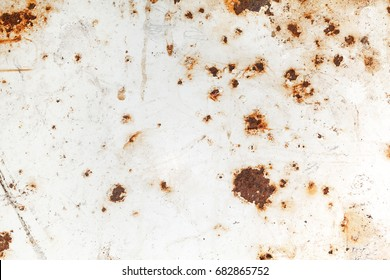rust: (219, 1, 390, 104), (233, 164, 278, 211), (1, 1, 50, 44), (342, 207, 390, 246), (206, 62, 243, 101), (223, 1, 279, 16), (108, 183, 128, 203), (1, 230, 15, 258), (331, 53, 346, 67), (287, 23, 302, 37), (252, 57, 264, 72), (256, 252, 276, 259), (158, 180, 169, 192), (71, 53, 83, 63), (277, 179, 288, 189), (322, 186, 330, 195)
